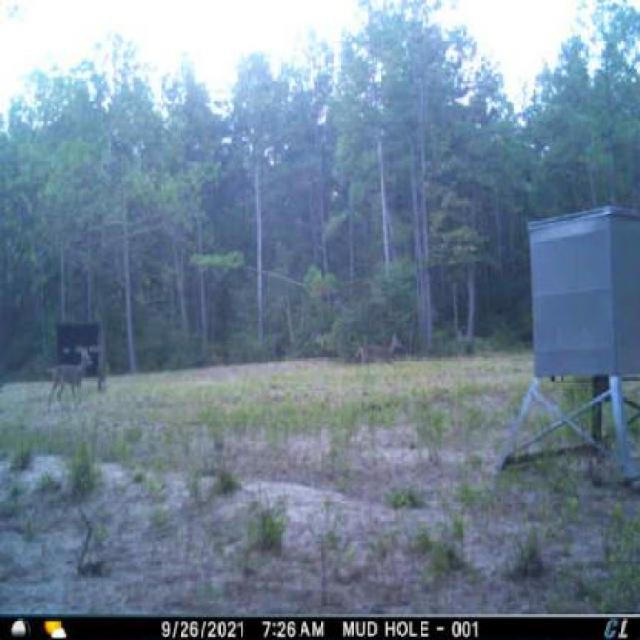Deer: (38, 337, 102, 421)
